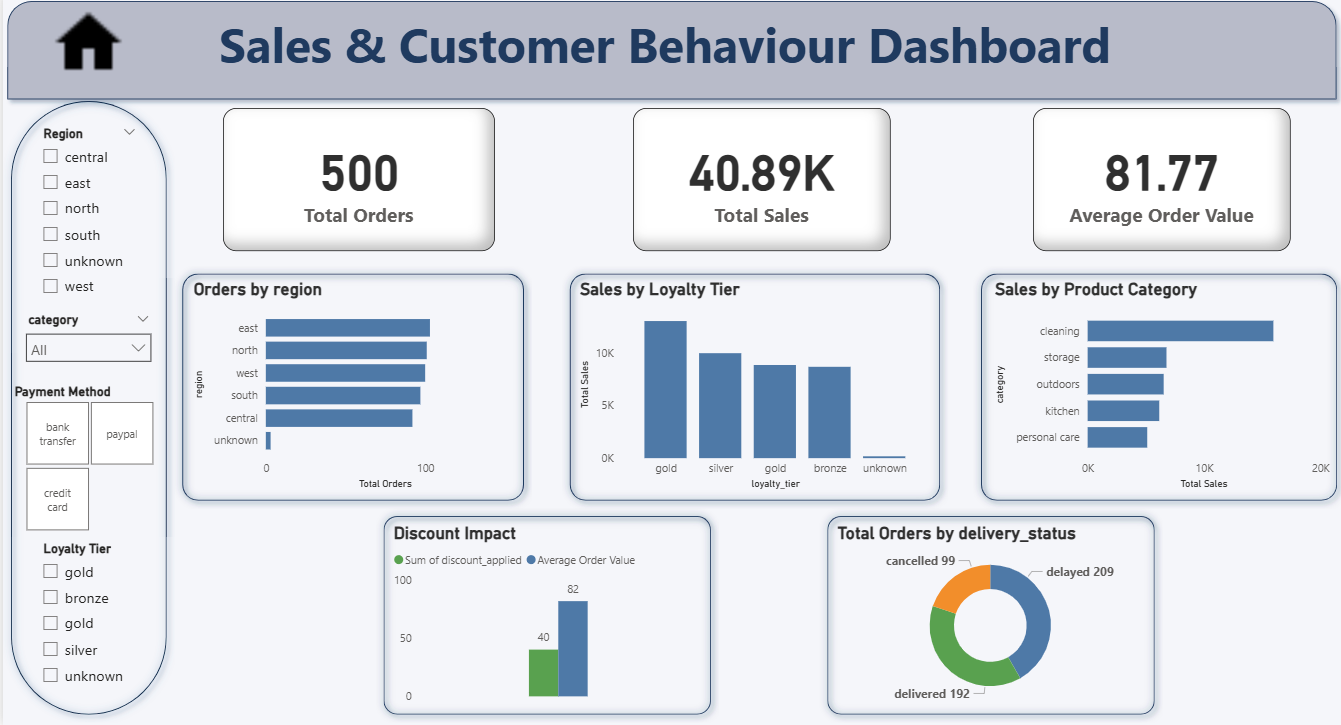

Layout of this report page (visuals, bound fields, positions):
{"tool":"powerbi","page":{"name":"Dashboard","canvas":[1500,820],"ordinal":1},"visuals":[{"type":"card","fields":{"Values":["customer_info.Total Orders"]},"box":[246.4,128.3,304,160],"z":0},{"type":"shape","box":[-4,0,1504,128],"z":1000,"group":"g1"},{"type":"card","fields":{"Values":["customer_info.Total Sales"]},"box":[704,128,288,160],"z":1000},{"type":"textbox","box":[28,16,1424,112],"z":1500,"group":"g1"},{"type":"card","fields":{"Values":["customer_info.Average Order Value"]},"box":[1152,128,288,160],"z":2000},{"type":"shape","box":[192,304,400,272],"z":3000},{"type":"shape","box":[912,576,384,240],"z":4000},{"type":"shape","box":[416,576,384,240],"z":5000},{"type":"shape","box":[1084,304,416,272],"z":6000},{"type":"shape","box":[624,304,432,272],"z":7000},{"type":"clusteredBarChart","title":"Orders by region","fields":{"Category":["customer_info.region"],"Y":["customer_info.Total Orders"]},"box":[208,320,368,240],"z":8000},{"type":"clusteredColumnChart","title":"Discount Impact","fields":{"Y":["Sum(sales_data.discount_applied)","customer_info.Average Order Value"]},"box":[432,592,352,208],"z":9000},{"type":"clusteredColumnChart","title":"Sales by Loyalty Tier","fields":{"Category":["customer_info.loyalty_tier"],"Y":["customer_info.Total Sales"]},"box":[640,320,400,240],"z":10000},{"type":"clusteredBarChart","title":"Sales by Product Category","fields":{"Category":["product_info.category"],"Y":["customer_info.Total Sales"]},"box":[1104,320,384,240],"z":11000},{"type":"donutChart","fields":{"Category":["sales_data.delivery_status"],"Y":["customer_info.Total Orders"]},"box":[928,592,352,208],"z":12000},{"type":"shape","box":[0,112,192,704],"z":13000},{"type":"group","id":"g1","title":"Group 1","box":[-4,0,1504,128],"z":14000},{"type":"slicer","fields":{"Values":["customer_info.region"]},"box":[32,144,128,208],"z":15000},{"type":"slicer","fields":{"Values":["customer_info.loyalty_tier"]},"box":[32,608,144,176],"z":16000},{"type":"slicer","fields":{"Values":["sales_data.payment_method"]},"box":[0,432,192,176],"z":17000},{"type":"slicer","fields":{"Values":["product_info.category"]},"box":[16,352,160,80],"z":18000},{"type":"image","box":[48,16,96,80],"z":19000}]}

Visuals, with their boxes in screenshot pixels (x1, y1, x2, y2), scaled from the page's 1500x820 canvas onto the 1341x725 screenshot:
card - customer_info.Total Orders: (220, 113, 492, 255)
shape: (0, 0, 1340, 113)
card - customer_info.Total Sales: (629, 113, 887, 255)
textbox: (25, 14, 1298, 113)
card - customer_info.Average Order Value: (1030, 113, 1287, 255)
shape: (172, 269, 529, 509)
shape: (815, 509, 1159, 721)
shape: (372, 509, 715, 721)
shape: (969, 269, 1340, 509)
shape: (558, 269, 944, 509)
"Orders by region" clusteredBarChart: (186, 283, 515, 495)
"Discount Impact" clusteredColumnChart: (386, 523, 701, 707)
"Sales by Loyalty Tier" clusteredColumnChart: (572, 283, 930, 495)
"Sales by Product Category" clusteredBarChart: (987, 283, 1330, 495)
donutChart - sales_data.delivery_status x customer_info.Total Orders: (830, 523, 1144, 707)
shape: (0, 99, 172, 721)
"Group 1" group: (0, 0, 1340, 113)
slicer - customer_info.region: (29, 127, 143, 311)
slicer - customer_info.loyalty_tier: (29, 538, 157, 693)
slicer - sales_data.payment_method: (0, 382, 172, 538)
slicer - product_info.category: (14, 311, 157, 382)
image: (43, 14, 129, 85)
